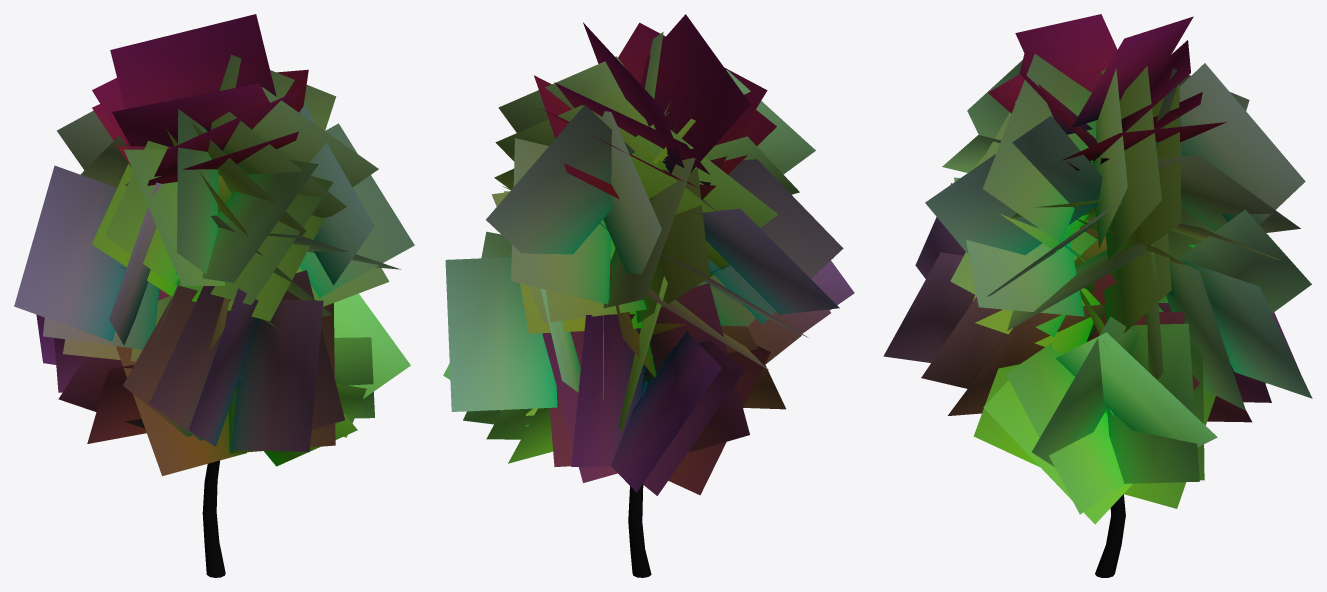
Rendered from URP_P15_Tree_2_LOD_2.fbx.
The picture shows the model from 3 angles, left to right: view 1: azimuth 30°, elevation 25°; view 2: azimuth 150°, elevation 25°; view 3: azimuth 270°, elevation 25°; orthographic projection. The views are drawn at different scales.
Parts seen in each view (by area): view 1: Tree_2_LOD_2; view 2: Tree_2_LOD_2; view 3: Tree_2_LOD_2.
Part boxes in pixels (box(x1,y1,x2,y2)): Tree_2_LOD_2: box(14, 14, 414, 577); Tree_2_LOD_2: box(443, 14, 854, 577); Tree_2_LOD_2: box(883, 14, 1312, 577).
Size of the model in its own units: 513 by 740 by 514.
